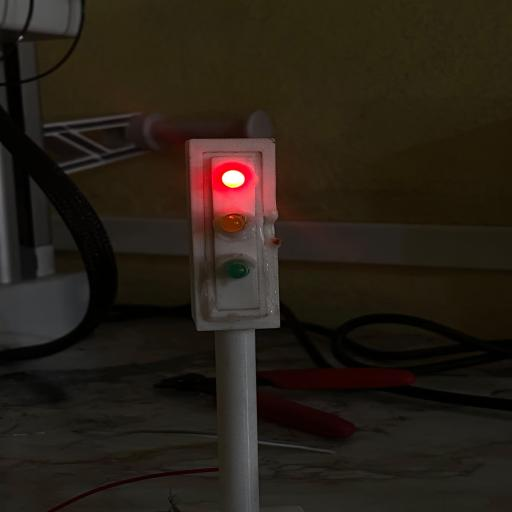Red Light: (222, 170, 245, 188)
